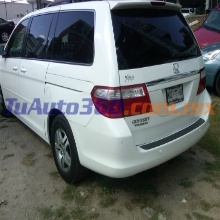no damage: (1, 1, 213, 186)
